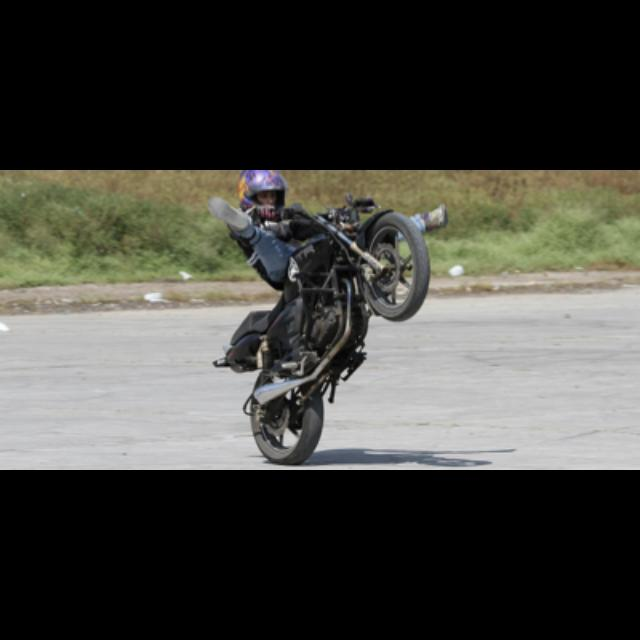With Helmet: (235, 170, 291, 216)
